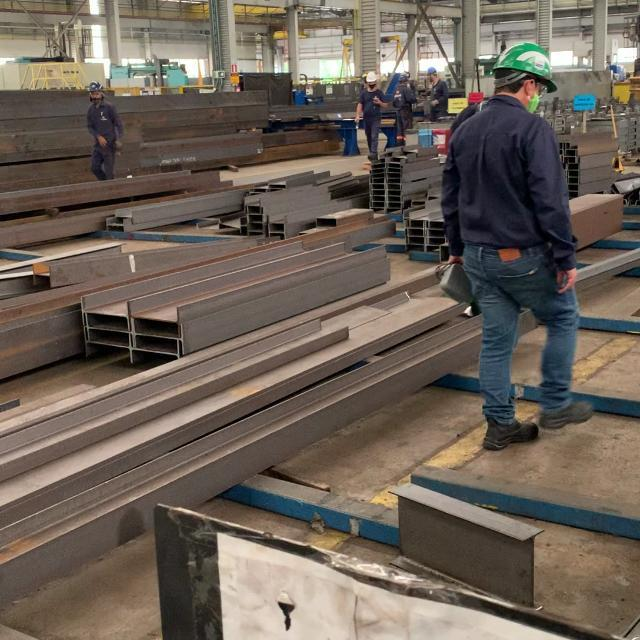glove: (492, 40, 558, 97)
helmet: (529, 93, 539, 110)
mask: (441, 40, 592, 450)
safety-shoe: (482, 418, 540, 449), (537, 399, 595, 428)
